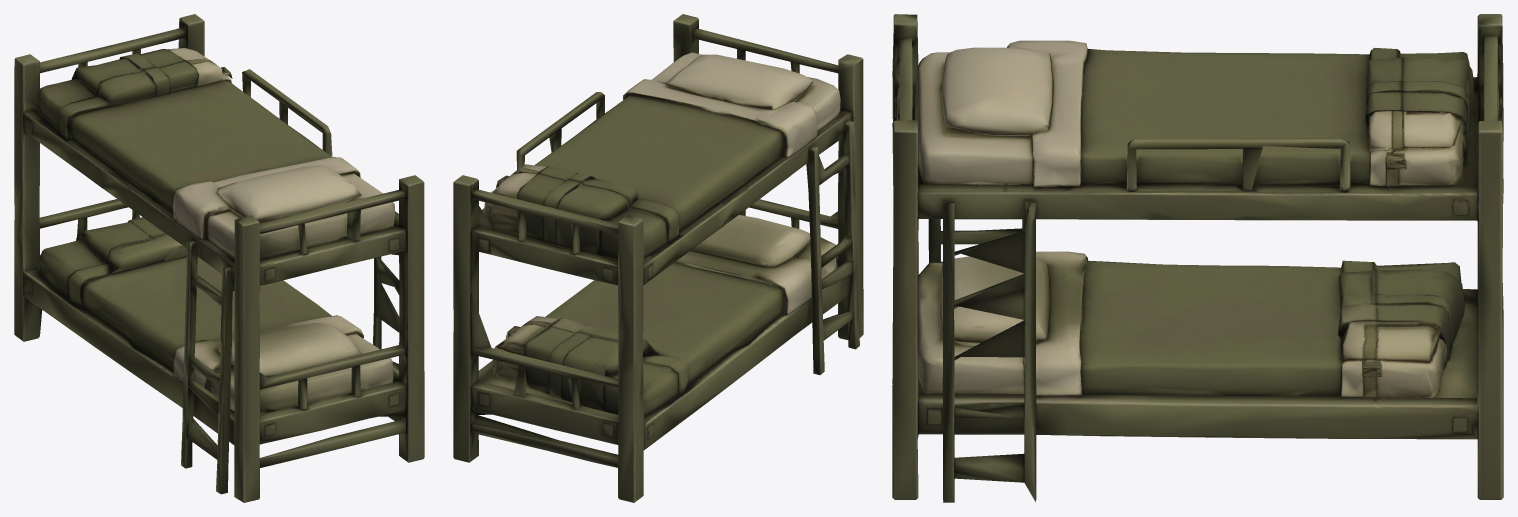
Rendered from bunk.fbx.
The picture shows the model from 3 angles, left to right: view 1: azimuth 30°, elevation 25°; view 2: azimuth 150°, elevation 25°; view 3: azimuth 270°, elevation 25°; orthographic projection. The views are drawn at different scales.
Visible parts, largest first — view 1: tripo_node_2e9a832f; view 2: tripo_node_2e9a832f; view 3: tripo_node_2e9a832f.
Boxes of the visible parts, <box> form: tripo_node_2e9a832f: <box>14,14,424,502</box>; tripo_node_2e9a832f: <box>453,14,863,502</box>; tripo_node_2e9a832f: <box>892,14,1503,502</box>.
Size of the model in its own units: 0.4876 by 0.653 by 0.9781.
